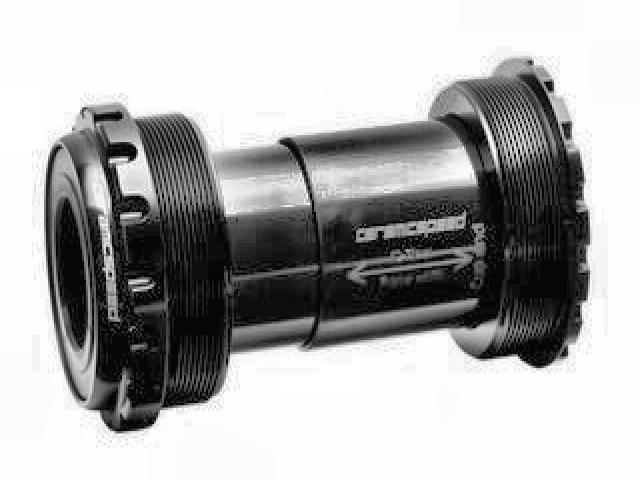bottom_bracket: (39, 53, 594, 437)
